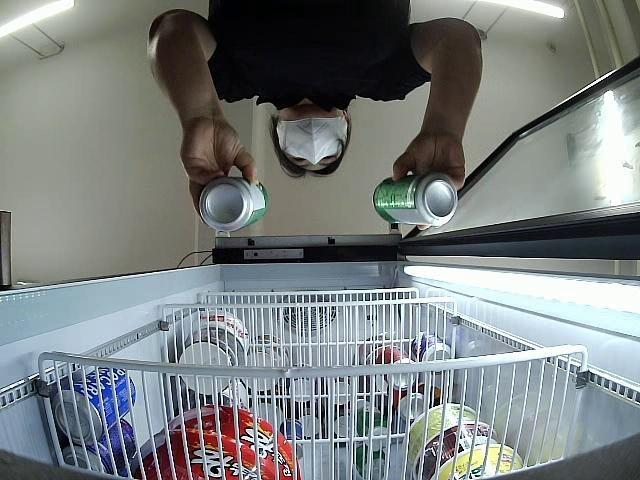12_chilsungCider: (370, 176, 458, 224), (198, 177, 268, 234)
